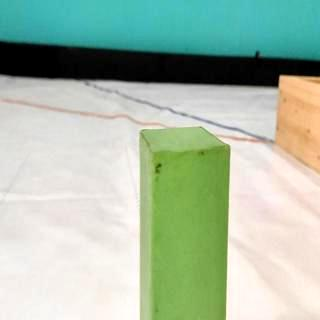greenbox: (132, 123, 233, 320)
